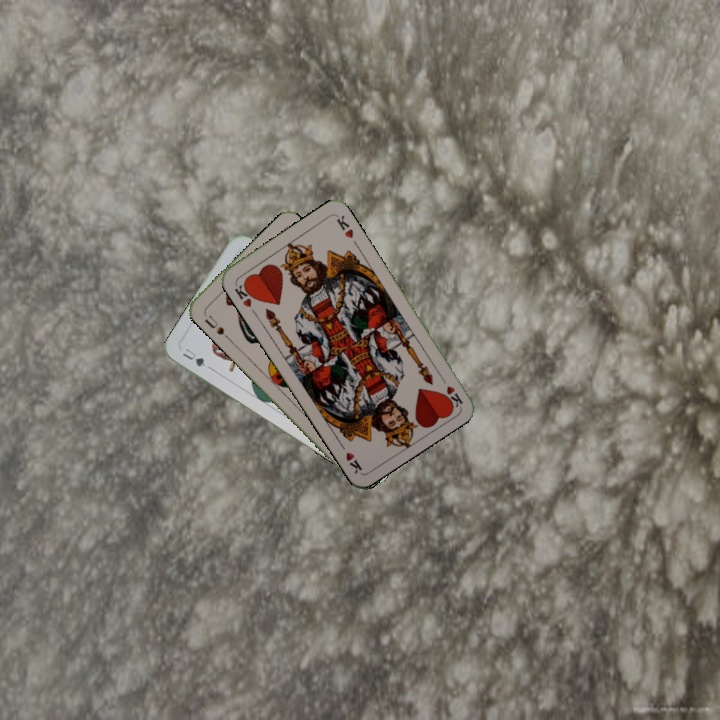GU: (178, 344, 208, 369)
HK: (436, 371, 466, 409), (230, 278, 258, 310)
SU: (200, 308, 227, 337)
